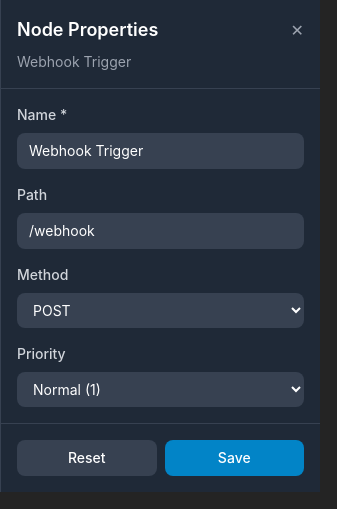
it: PropertyPanel › Reset functionality › should reset fields to original values when reset clicked
Replace the text in the field labelled "Name *" with "Changed Name" at (160, 151), box left=17, top=133, right=304, bottom=169
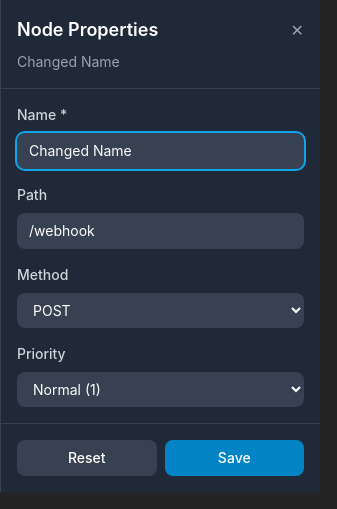
Click the button "Reset" at (87, 458), box left=17, top=440, right=156, bottom=476
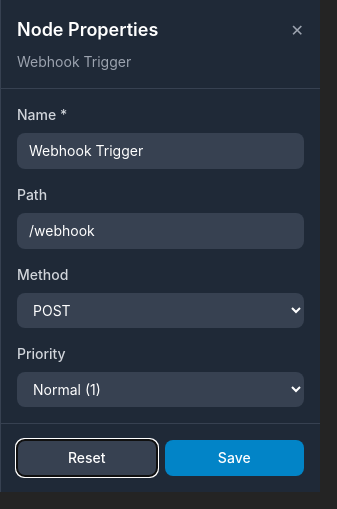
Expected: the field labelled "Name *" holds "Webhook Trigger", left=17, top=133, right=304, bottom=169
